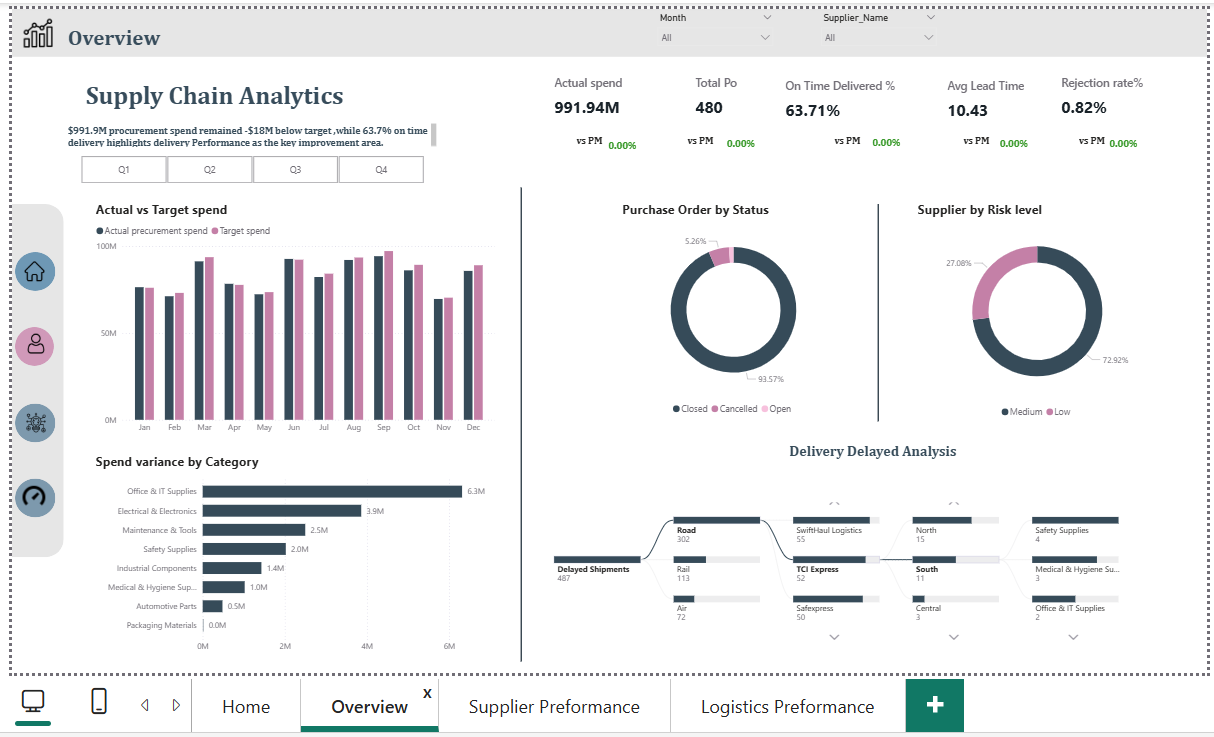

The page's visual inventory and layout, read from the dashboard file:
{"tool":"powerbi","page":{"name":"Overview","canvas":[1800,1000],"ordinal":1},"visuals":[{"type":"shape","box":[0,0,1800.5,72.3],"z":0},{"type":"shape","box":[0,293,78,532],"z":1000},{"type":"textbox","box":[79.1,0,293.7,72.3],"z":2000},{"type":"image","box":[0,9,79.1,54.2],"z":3000},{"type":"textbox","box":[106.2,101.7,490.2,65.5],"z":4000},{"type":"shape","box":[4.5,366,61,58.7],"z":5000},{"type":"shape","box":[4.5,479.7,58.7,58.7],"z":6000},{"type":"shape","box":[4.5,593.4,61,58.7],"z":7000},{"type":"shape","box":[4.5,707.1,61,58.7],"z":8000},{"type":"image","box":[15.8,594.1,40,58],"z":9000},{"type":"cardVisual","fields":{"Data":["1st Measure page.Actual precurement spend"]},"box":[799.7,81.3,221.4,97.1],"z":10000},{"type":"cardVisual","fields":{"Data":["1st Measure page.Total Po"]},"box":[1012.1,81.3,176.2,97.1],"z":11000},{"type":"cardVisual","fields":{"Data":["1st Measure page.On Time Delivered %"]},"box":[1147.6,85.8,201.1,97.1],"z":12000},{"type":"cardVisual","fields":{"Data":["1st Measure page.Avg Lead Time"]},"box":[1391.6,86.3,201.1,97.1],"z":13000},{"type":"cardVisual","fields":{"Data":["1st Measure page.Rejection rate%"]},"box":[1563.3,81.3,171.7,97.1],"z":14000},{"type":"clusteredColumnChart","title":"Actual vs Target spend ","fields":{"Y":["1st Measure page.Actual precurement spend","1st Measure page.Target spend"],"Category":["Dim_date.Month"]},"box":[106.2,268.8,641.6,379.5],"z":15000},{"type":"clusteredBarChart","fields":{"Y":["1st Measure page.Spend variance"],"Category":["dim_category.Category"]},"box":[106.2,648.4,641.6,329.8],"z":16000},{"type":"shape","box":[747.8,268.8,38.4,713.9],"z":17000},{"type":"donutChart","title":"Purchase Order by Status","fields":{"Category":["fact_procurement.PO_Status"],"Y":["1st Measure page.Total Po"]},"box":[899.1,268.8,375,352.4],"z":18000},{"type":"donutChart","title":"Supplier by Risk level","fields":{"Category":["dim_supplier.Risk_Level"],"Y":["Count(dim_supplier.Supplier_ID)"]},"box":[1344.2,268.8,399.9,356.9],"z":19000},{"type":"shape","box":[1217.6,293.7,173.9,327.6],"z":20000},{"type":"decompositionTreeVisual","fields":{"ExplainBy":["fact_procurement.Transport_Mode","dim_carrier.Carrier_Name","dim_supplier.Region","dim_category.Category"],"Analyze":["1st Measure page.Delayed Shipments"]},"box":[786.2,652.9,985,329.8],"z":21000},{"type":"shape","box":[844.9,670.9,921.7,72.3],"z":22000},{"type":"textbox","box":[1165.7,648.4,305,58.7],"z":23000},{"type":"image","box":[13.6,372.7,40.7,45.2],"z":24000},{"type":"image","box":[15.8,478.9,40.7,49.7],"z":25000},{"type":"image","box":[9,702.6,47.4,65.5],"z":26000},{"type":"slicer","fields":{"Values":["Dim_date.Month"]},"box":[962.4,0,194.3,72.3],"z":27000},{"type":"textbox","box":[844.9,164.9,140.1,76.8],"z":28000},{"type":"slicer","fields":{"Values":["dim_supplier.Supplier_Name"]},"box":[1208.6,0,194.3,72.3],"z":29000},{"type":"textbox","box":[79.1,167.2,564.8,45.2],"z":30000},{"type":"slicer","fields":{"Values":["Dim_date.Quarter"]},"box":[79.1,214.6,564.8,54.2],"z":31000},{"type":"cardVisual","fields":{"Data":["1st Measure page.Mom Var PO"]},"box":[1059.5,167.2,131,47.4],"z":32000},{"type":"cardVisual","fields":{"Data":["1st Measure page.Mom Var on time"]},"box":[1278.6,164.9,131,52],"z":33000},{"type":"cardVisual","fields":{"Data":["1st Measure page.Mom Var Avg Lead Time"]},"box":[1470.7,167.2,131,47.4],"z":34000},{"type":"cardVisual","fields":{"Data":["1st Measure page.Mom Var Rejection rate"]},"box":[1635.6,167.2,131,47.4],"z":35000},{"type":"cardVisual","fields":{"Data":["1st Measure page.Mom Var spend"]},"box":[881,169.4,131,47.4],"z":36000},{"type":"textbox","box":[1012.1,183,113,61],"z":36001},{"type":"textbox","box":[1233.5,183,110.7,58.7],"z":36002},{"type":"textbox","box":[1427.7,183,108.4,58.7],"z":36004},{"type":"textbox","box":[1601.7,183,142.3,67.8],"z":36005}]}

Visuals, with their boxes on the page's 1800x1000 design canvas (x1, y1, x2, y2). These are canvas units, not pixel positions in the 1214x737 screenshot, which may show the page scaled, cropped or inside an application window:
shape: [x1=0, y1=0, x2=1800, y2=72]
shape: [x1=0, y1=293, x2=78, y2=825]
textbox: [x1=79, y1=0, x2=373, y2=72]
image: [x1=0, y1=9, x2=79, y2=63]
textbox: [x1=106, y1=102, x2=596, y2=167]
shape: [x1=4, y1=366, x2=66, y2=425]
shape: [x1=4, y1=480, x2=63, y2=538]
shape: [x1=4, y1=593, x2=66, y2=652]
shape: [x1=4, y1=707, x2=66, y2=766]
image: [x1=16, y1=594, x2=56, y2=652]
cardVisual - 1st Measure page.Actual precurement spend: [x1=800, y1=81, x2=1021, y2=178]
cardVisual - 1st Measure page.Total Po: [x1=1012, y1=81, x2=1188, y2=178]
cardVisual - 1st Measure page.On Time Delivered %: [x1=1148, y1=86, x2=1349, y2=183]
cardVisual - 1st Measure page.Avg Lead Time: [x1=1392, y1=86, x2=1593, y2=183]
cardVisual - 1st Measure page.Rejection rate%: [x1=1563, y1=81, x2=1735, y2=178]
"Actual vs Target spend " clusteredColumnChart: [x1=106, y1=269, x2=748, y2=648]
clusteredBarChart - 1st Measure page.Spend variance x dim_category.Category: [x1=106, y1=648, x2=748, y2=978]
shape: [x1=748, y1=269, x2=786, y2=983]
"Purchase Order by Status" donutChart: [x1=899, y1=269, x2=1274, y2=621]
"Supplier by Risk level" donutChart: [x1=1344, y1=269, x2=1744, y2=626]
shape: [x1=1218, y1=294, x2=1392, y2=621]
decompositionTreeVisual - fact_procurement.Transport_Mode x dim_carrier.Carrier_Name: [x1=786, y1=653, x2=1771, y2=983]
shape: [x1=845, y1=671, x2=1767, y2=743]
textbox: [x1=1166, y1=648, x2=1471, y2=707]
image: [x1=14, y1=373, x2=54, y2=418]
image: [x1=16, y1=479, x2=56, y2=529]
image: [x1=9, y1=703, x2=56, y2=768]
slicer - Dim_date.Month: [x1=962, y1=0, x2=1157, y2=72]
textbox: [x1=845, y1=165, x2=985, y2=242]
slicer - dim_supplier.Supplier_Name: [x1=1209, y1=0, x2=1403, y2=72]
textbox: [x1=79, y1=167, x2=644, y2=212]
slicer - Dim_date.Quarter: [x1=79, y1=215, x2=644, y2=269]
cardVisual - 1st Measure page.Mom Var PO: [x1=1060, y1=167, x2=1190, y2=215]
cardVisual - 1st Measure page.Mom Var on time: [x1=1279, y1=165, x2=1410, y2=217]
cardVisual - 1st Measure page.Mom Var Avg Lead Time: [x1=1471, y1=167, x2=1602, y2=215]
cardVisual - 1st Measure page.Mom Var Rejection rate: [x1=1636, y1=167, x2=1767, y2=215]
cardVisual - 1st Measure page.Mom Var spend: [x1=881, y1=169, x2=1012, y2=217]
textbox: [x1=1012, y1=183, x2=1125, y2=244]
textbox: [x1=1234, y1=183, x2=1344, y2=242]
textbox: [x1=1428, y1=183, x2=1536, y2=242]
textbox: [x1=1602, y1=183, x2=1744, y2=251]
